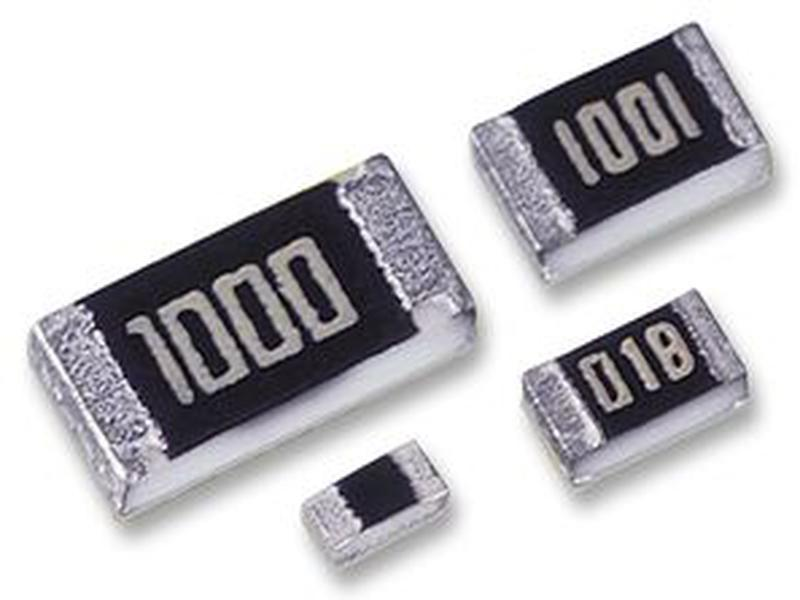SMD resistor: (23, 152, 506, 510)
